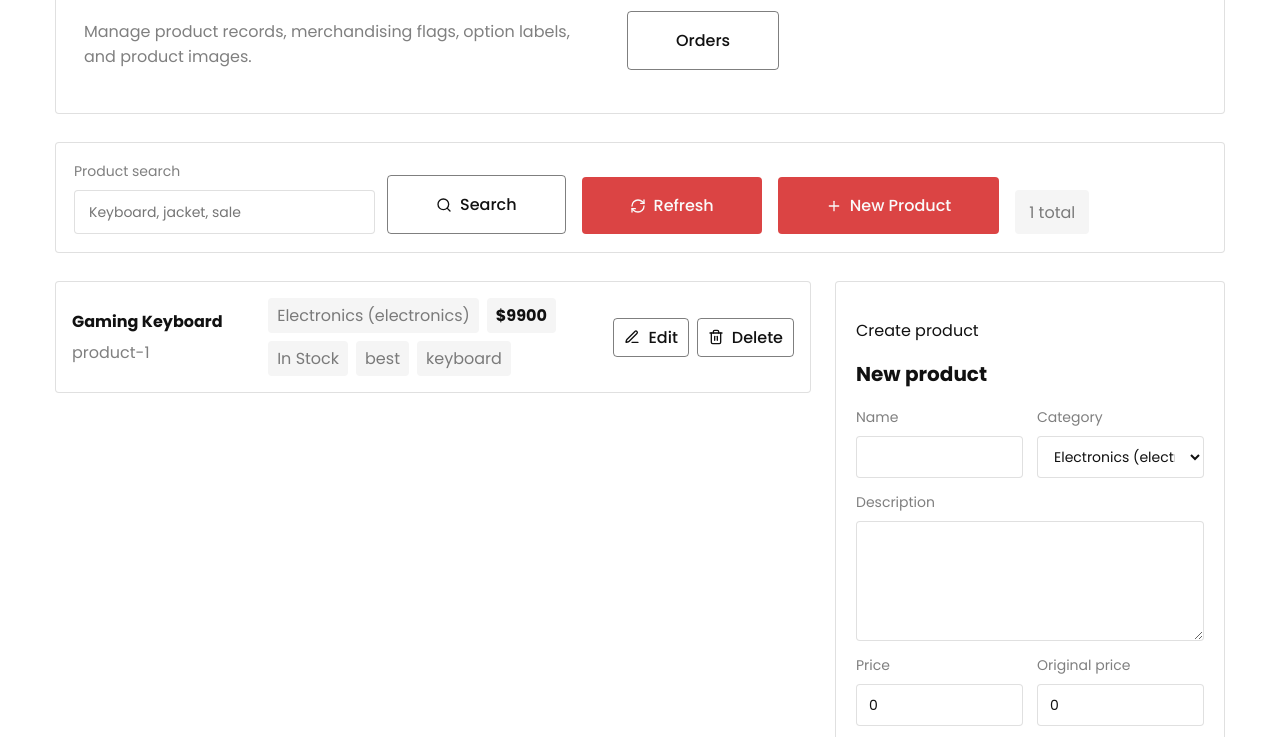
it: AdminProductsPage › deletes a product after confirmation
(page scrolled)
Click the button "Delete": [745, 337] box left=697, top=318, right=794, bottom=356
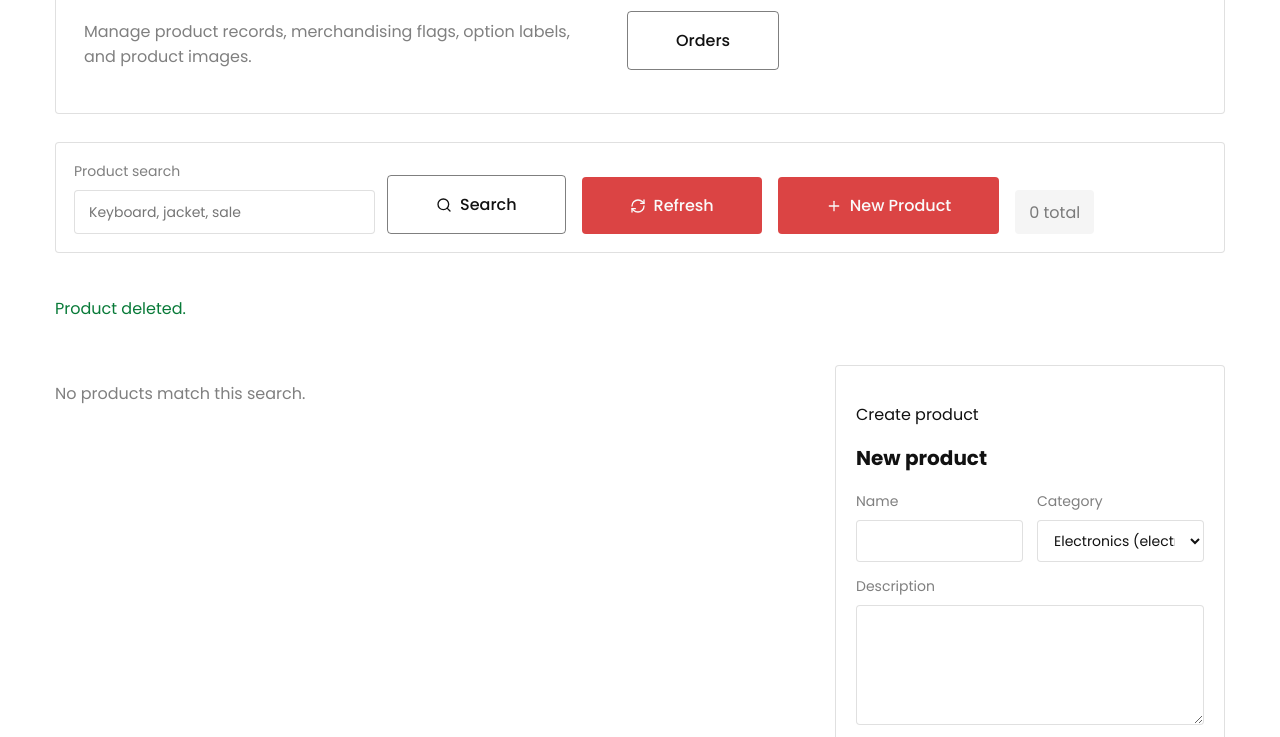
Now the text "Gaming Keyboard" is gone
